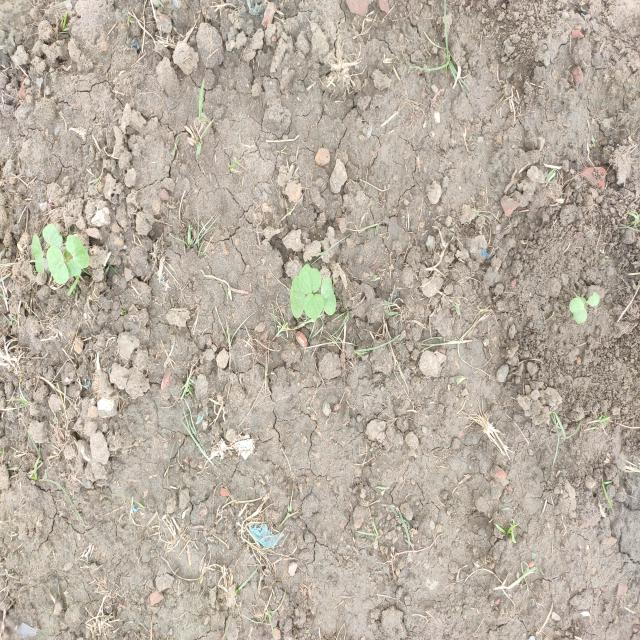seedling_s4: (46, 246, 69, 283), (66, 235, 89, 268), (298, 264, 321, 294), (290, 275, 306, 318), (304, 293, 324, 323), (321, 278, 336, 316), (569, 297, 587, 324), (32, 235, 44, 275), (42, 224, 62, 248), (66, 258, 82, 276), (587, 292, 600, 307)
